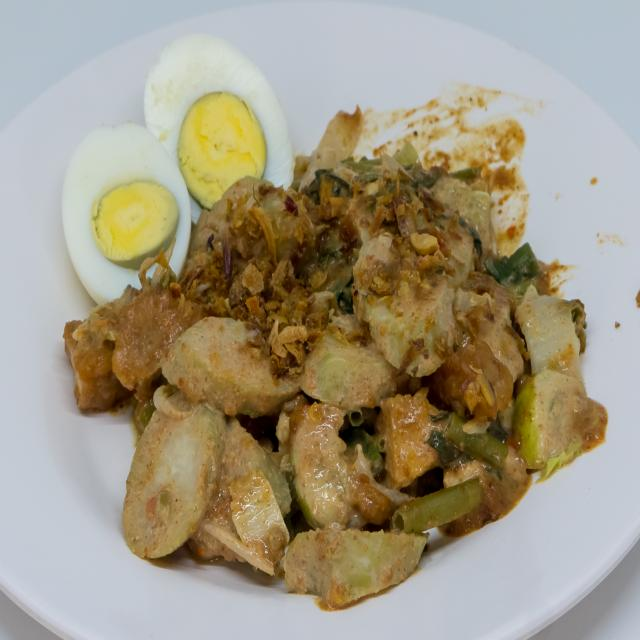Gado-Gado: (49, 14, 613, 619)
